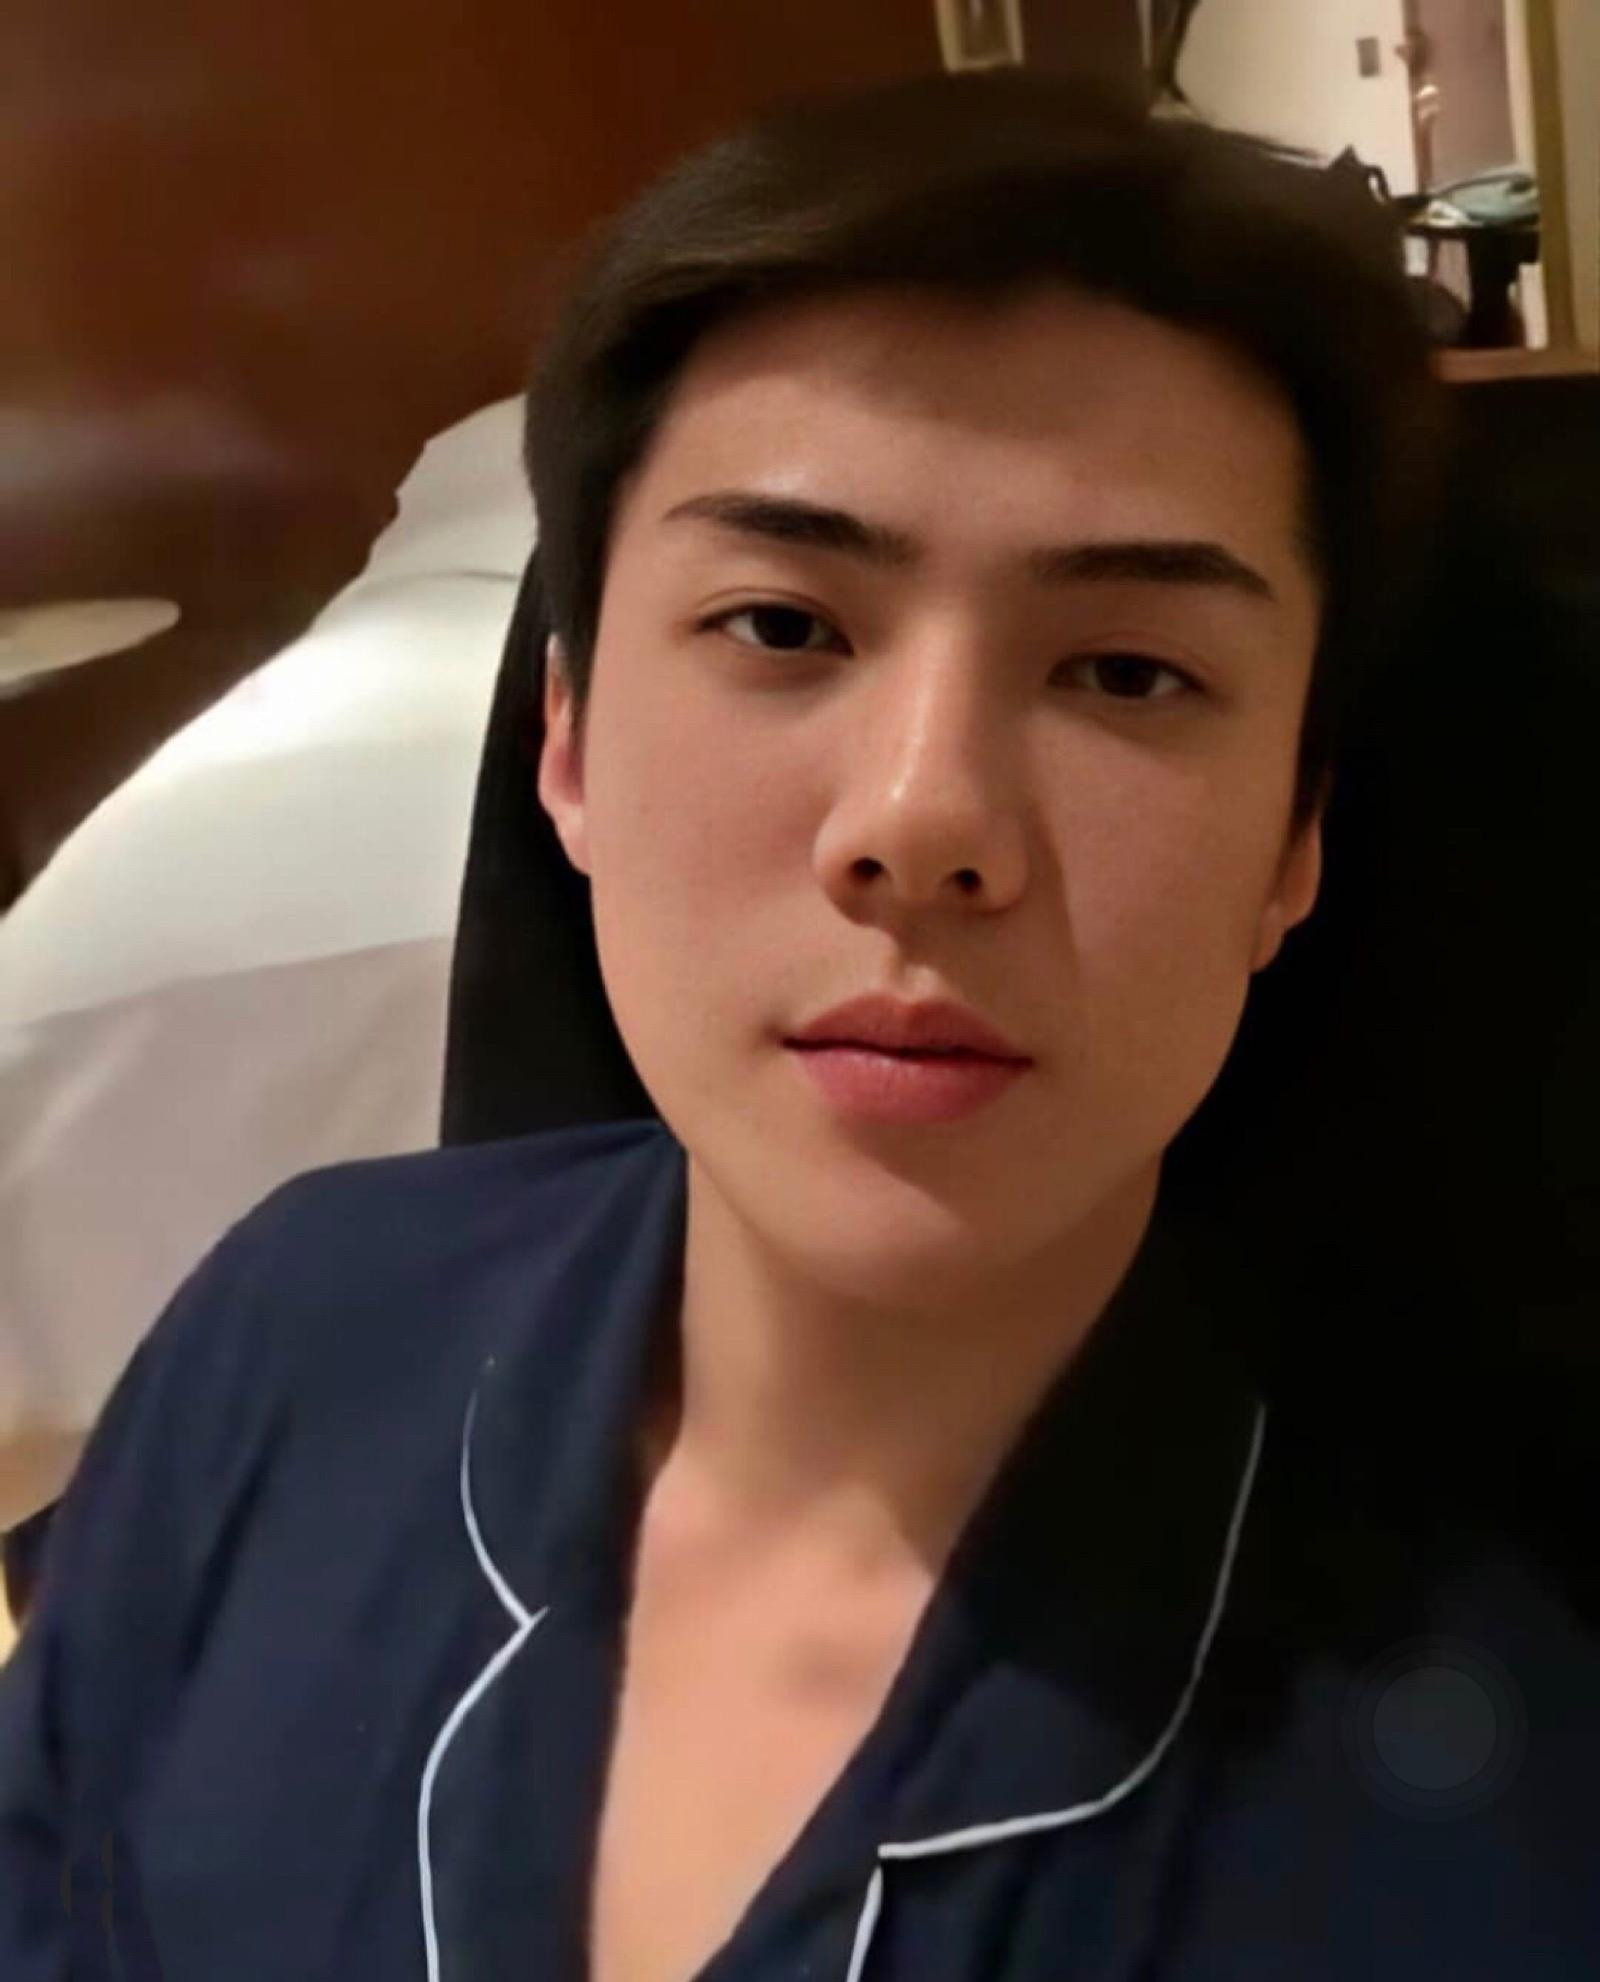person: (322, 99, 1297, 1533)
